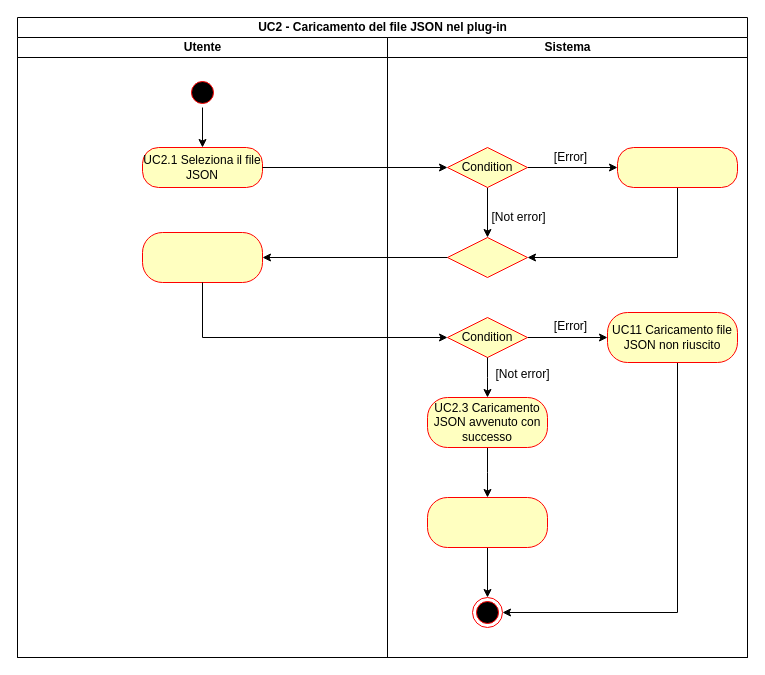
Image size: 765x675. Some labels were removed from this diagram. Each missing label, with the centre of its shape:
"Merge" belongs at (487,257).
"UC10 File JSON già presente" belongs at (677,167).
"UC2.2 Conferma collegamento del file JSON" belongs at (202,257).
"UC2.4 Visualizzazione contenuto file JSON" belongs at (487,522).
